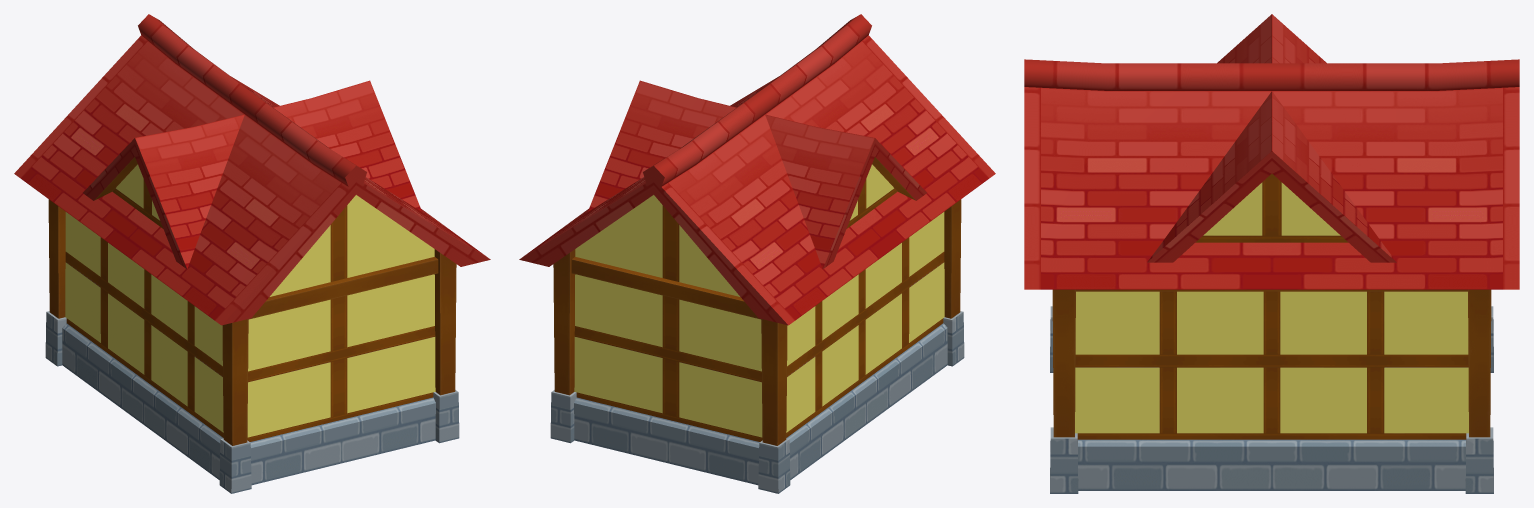
Rendered from HOS0410005.fbx.
The picture shows the model from 3 angles, left to right: view 1: azimuth 30°, elevation 25°; view 2: azimuth 150°, elevation 25°; view 3: azimuth 270°, elevation 25°; orthographic projection. The views are drawn at different scales.
Parts seen in each view (by area): view 1: smHOS0410005; view 2: smHOS0410005; view 3: smHOS0410005.
Boxes of the visible parts, x1=… form: smHOS0410005: x1=14, y1=14, x2=490, y2=493; smHOS0410005: x1=519, y1=14, x2=995, y2=493; smHOS0410005: x1=1024, y1=14, x2=1519, y2=493.
Size of the model in its own units: 323 by 352 by 430.
1 material, 1 textured.
